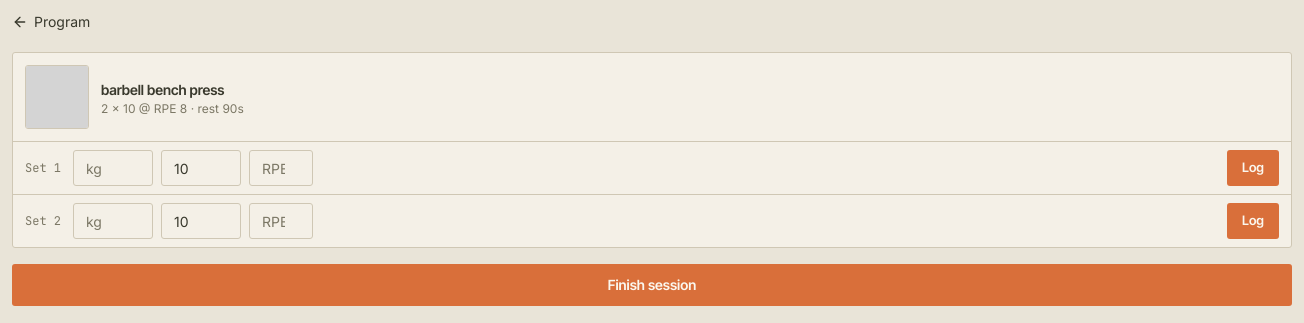
SessionRunner (M4) › finishes the session and shows the summary
Expected: the link "barbell bench press" is shown, [101,81,224,98]
Click the button "Finish session": click(652, 285) [12,264,1292,306]
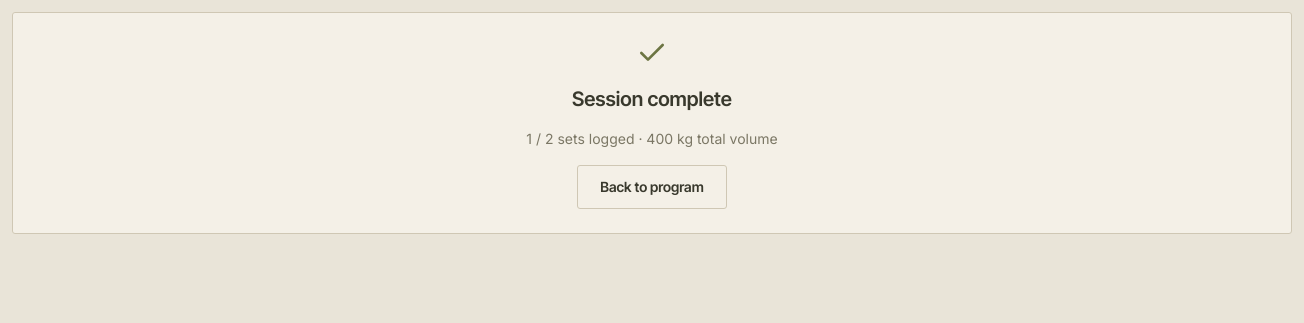
Now the heading "Session complete" is shown, box [572,87,732,111]
Now the text "1 / 2 sets logged · 400 kg total volume" is shown, box [526,130,778,147]
